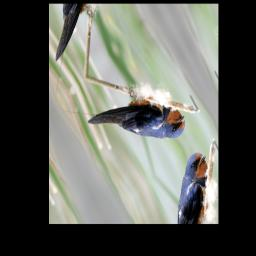Swallow: (87, 56, 191, 192)
